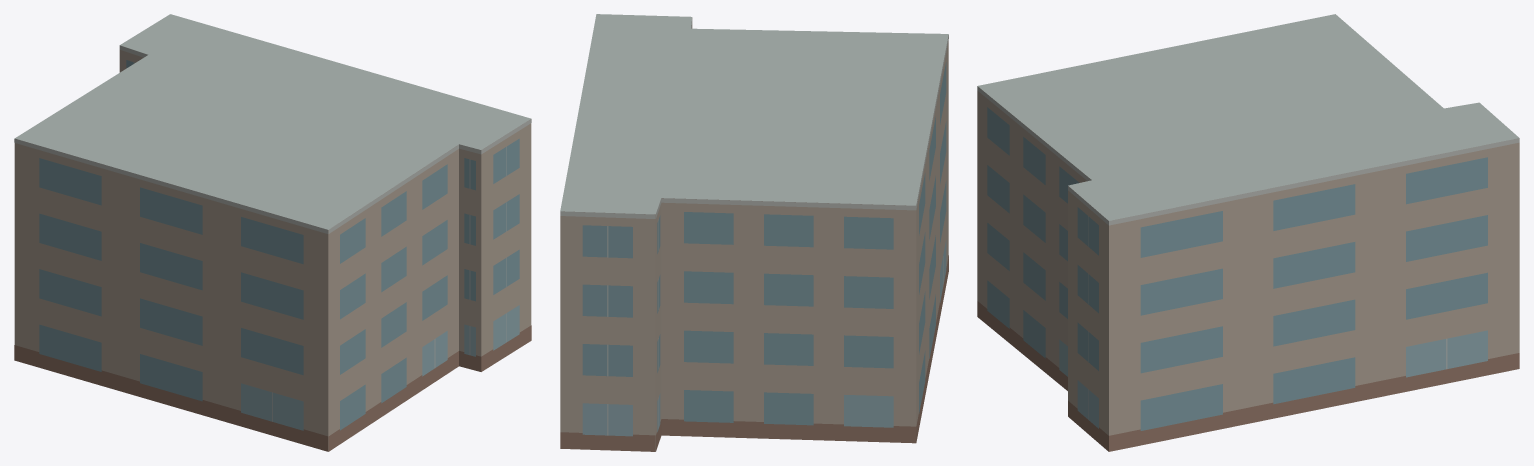
Rendered from survey-upis-32583988.glb.
3 views of the same model, side by side, from view 1: azimuth 30°, elevation 25°; view 2: azimuth 150°, elevation 25°; view 3: azimuth 270°, elevation 25° (orthographic). The views are drawn at different scales.
Parts seen in each view (by area): view 1: survey-upis-32583988.tmp; view 2: survey-upis-32583988.tmp; view 3: survey-upis-32583988.tmp.
Part boxes in pixels (<box>): survey-upis-32583988.tmp: <box>14,14,531,451</box>; survey-upis-32583988.tmp: <box>560,14,948,451</box>; survey-upis-32583988.tmp: <box>977,14,1519,451</box>.
Size of the model in its own units: 23.86 by 12.4 by 26.41.
